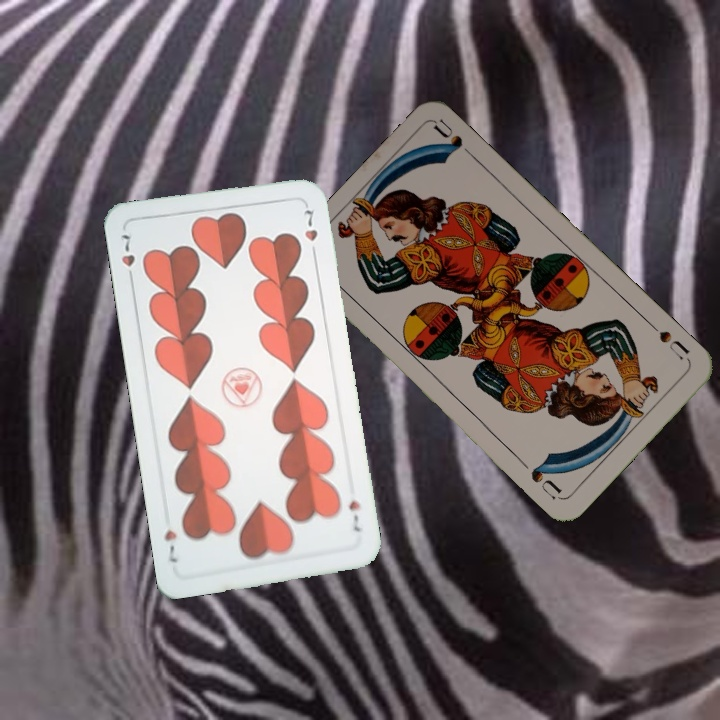H7: (116, 228, 138, 286), (344, 496, 363, 534)
SU: (645, 318, 692, 362)
